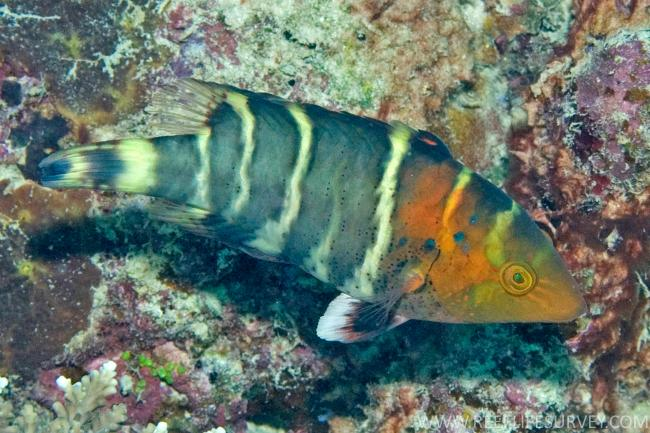fish: (38, 78, 586, 342)
